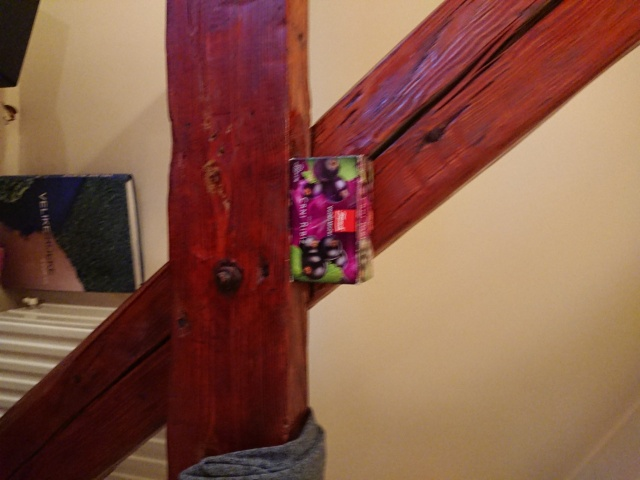Franck Black Currant Tea 60g: (285, 152, 378, 288)
